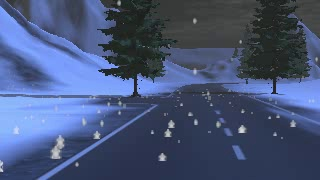Lane: (45, 83, 318, 179)
